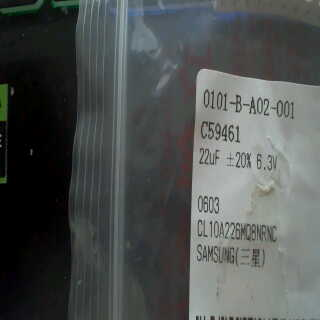22uF: (197, 145, 223, 168)
